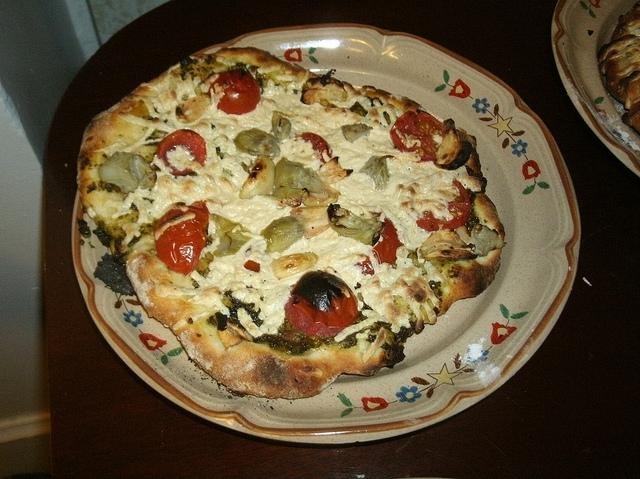tomato: (284, 270, 359, 336), (154, 200, 210, 275), (390, 109, 442, 164), (416, 180, 471, 232), (156, 128, 207, 176), (207, 68, 260, 114), (372, 218, 404, 265), (302, 132, 332, 164)
